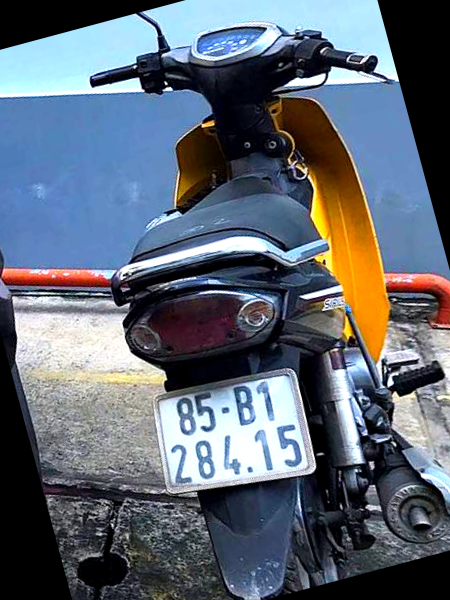number: (152, 370, 315, 493)
